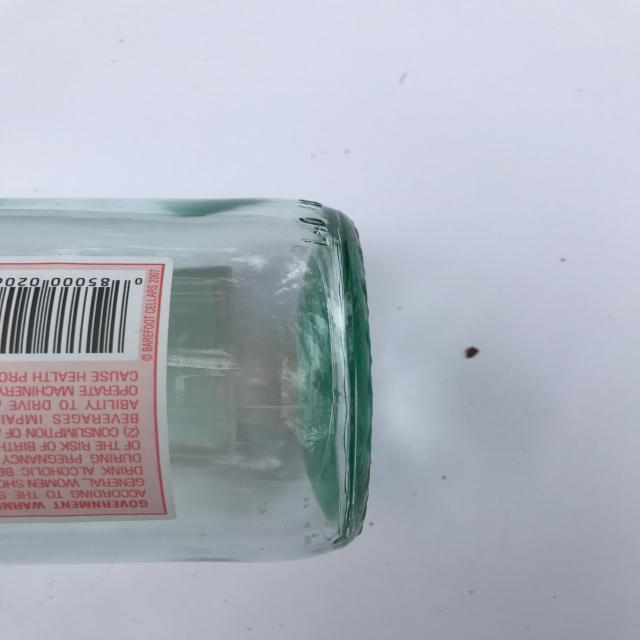glass: (1, 194, 367, 564)
